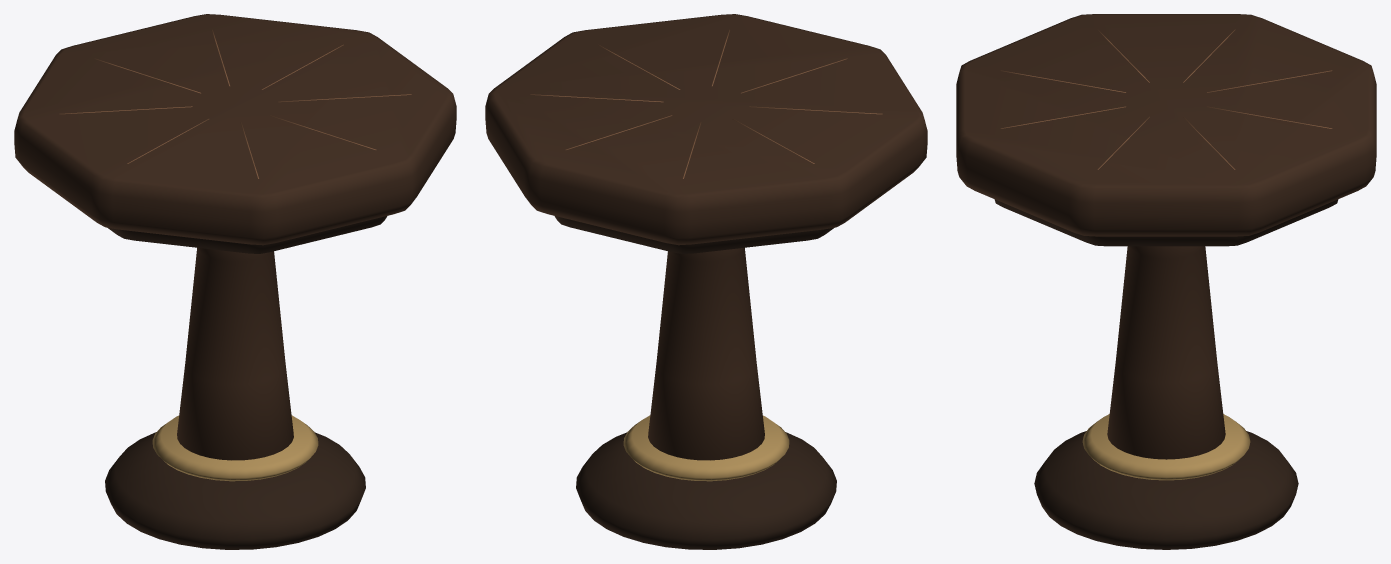
File: table_side_oct.fbx
3 renders of one model, left to right at view 1: azimuth 30°, elevation 25°; view 2: azimuth 150°, elevation 25°; view 3: azimuth 270°, elevation 25°, orthographic.
Visible parts, largest first — view 1: table_side_oct; view 2: table_side_oct; view 3: table_side_oct.
Part boxes in pixels (left/top/right/bottom): table_side_oct: left=14, top=14, right=456, bottom=549; table_side_oct: left=485, top=14, right=927, bottom=549; table_side_oct: left=956, top=14, right=1376, bottom=549.
Size of the model in its own units: 0.48 by 0.5006 by 0.48.
